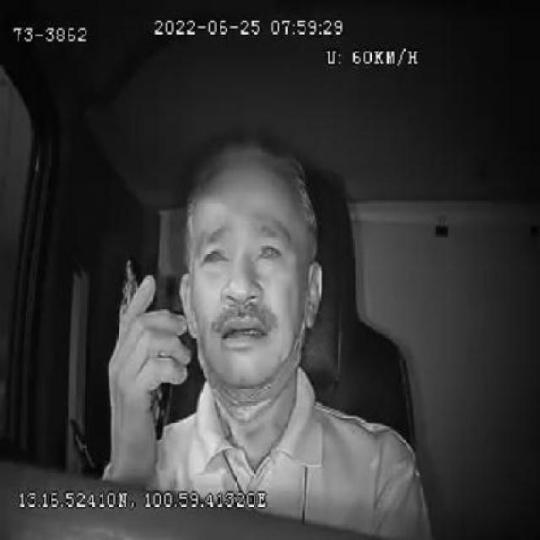phone: (118, 254, 176, 444)
